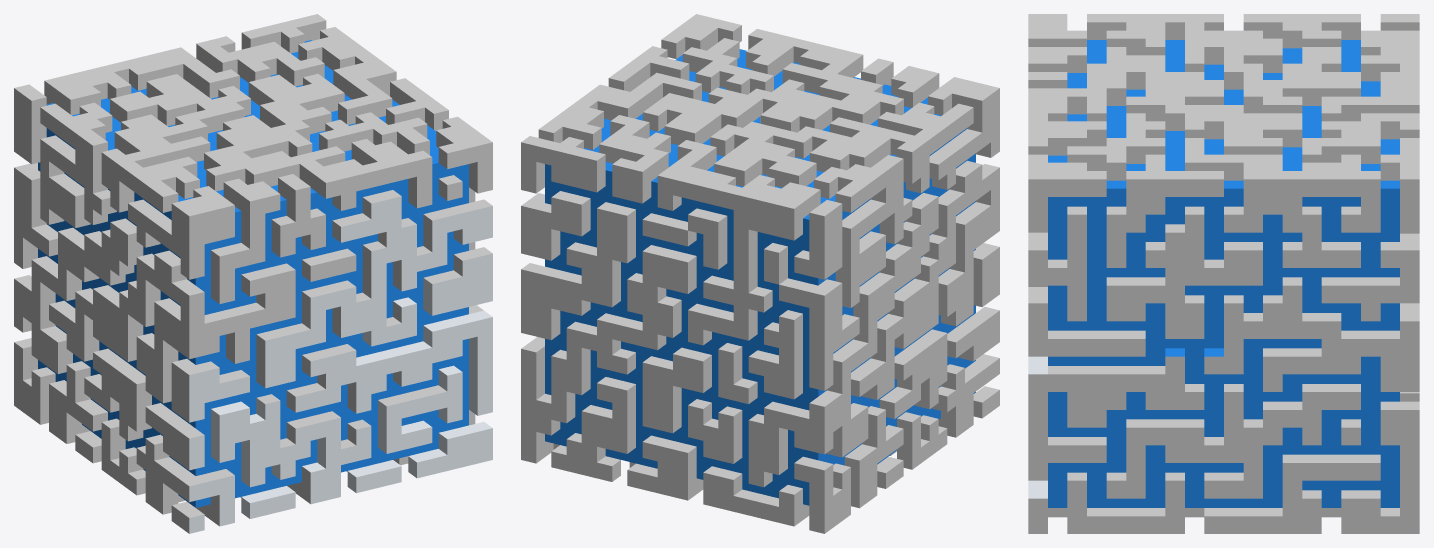
Rendered from PuzzleMaze.dae.
The picture shows the model from 3 angles, left to right: view 1: azimuth 30°, elevation 25°; view 2: azimuth 150°, elevation 25°; view 3: azimuth 270°, elevation 25°; orthographic projection. The views are drawn at different scales.
Parts seen in each view (by area): view 1: SketchUp (×43); view 2: SketchUp (×38); view 3: SketchUp (×27).
Part boxes in pixels (bbox=[...]): SketchUp (×43): bbox=[14, 14, 492, 533]; SketchUp (×38): bbox=[521, 14, 999, 533]; SketchUp (×27): bbox=[1028, 14, 1419, 533].
Size of the model in its own units: 5 by 5 by 5.
